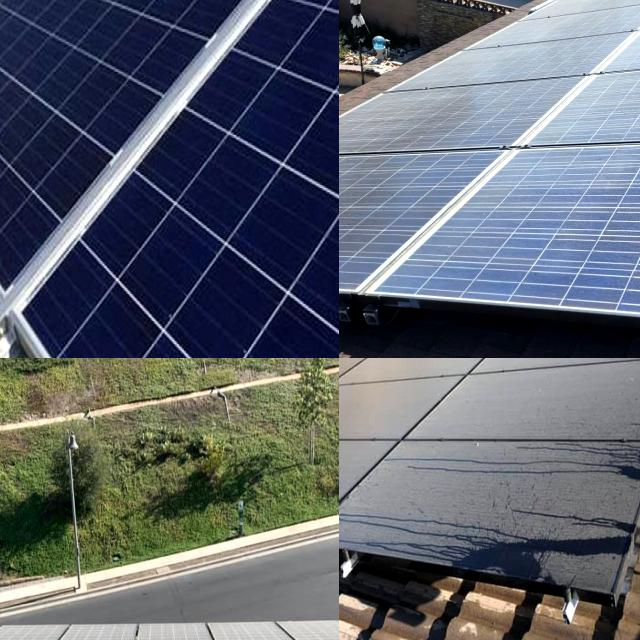crack: (135, 118, 339, 358), (32, 0, 296, 177), (51, 212, 304, 358), (0, 0, 116, 216), (152, 0, 339, 105), (30, 0, 162, 84)
dust: (440, 378, 640, 504), (515, 153, 640, 307), (445, 498, 623, 570), (446, 358, 640, 406), (339, 440, 444, 521), (339, 368, 426, 438), (0, 627, 204, 640), (233, 626, 339, 640), (373, 358, 427, 385)
